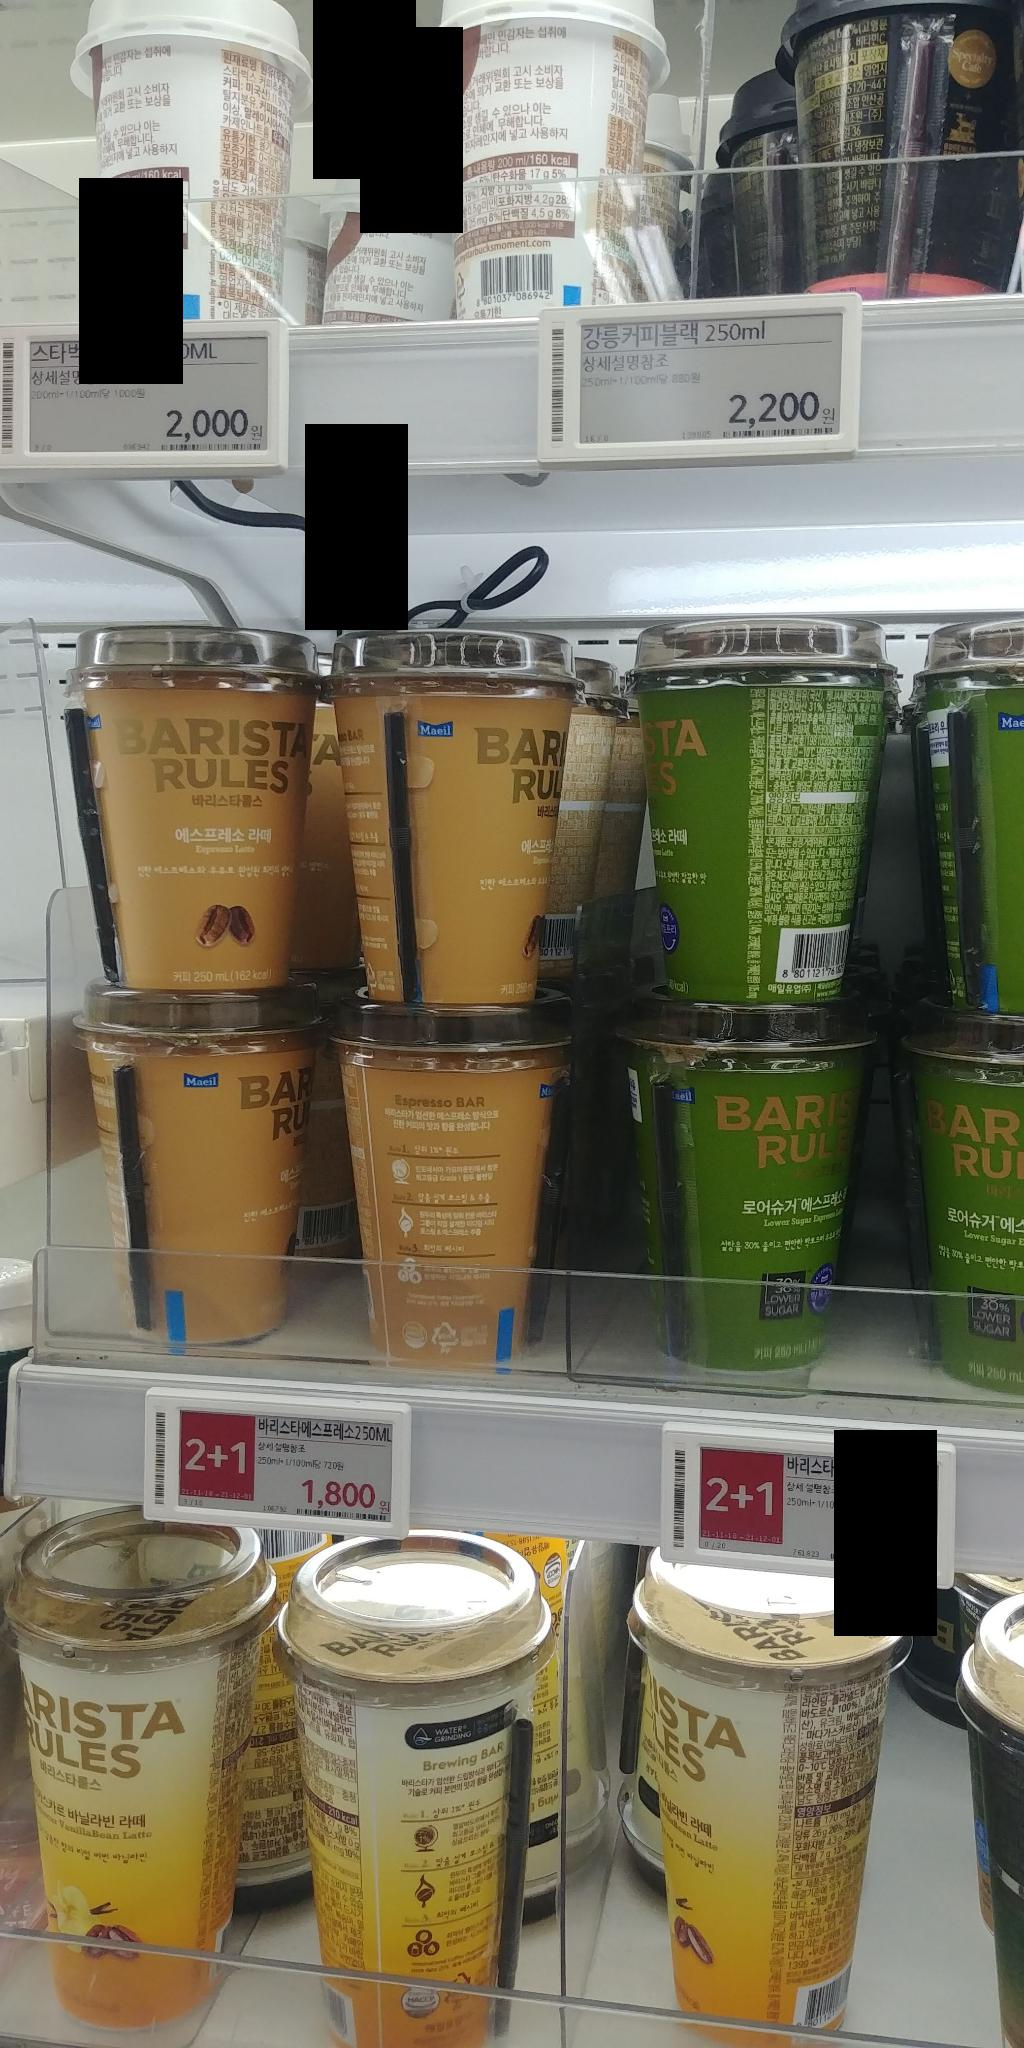baristarules_espressolatte: (67, 615, 320, 991), (336, 982, 576, 1368), (333, 627, 573, 998), (80, 967, 312, 1341)
